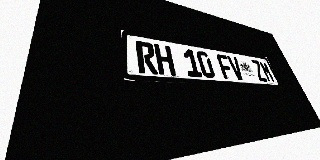0: (195, 50, 216, 78)
1: (181, 48, 203, 77)
F: (216, 54, 235, 80)
H: (154, 43, 176, 76)
M: (258, 61, 276, 82)
R: (135, 40, 158, 74)
V: (226, 55, 245, 80)
Z: (250, 59, 268, 82)
